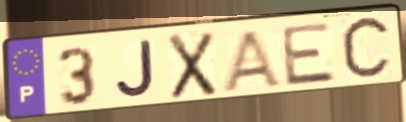3: (55, 45, 98, 107)
A: (219, 27, 286, 92)
C: (338, 12, 394, 85)
E: (279, 20, 339, 89)
J: (114, 38, 158, 101)
X: (166, 29, 219, 102)
